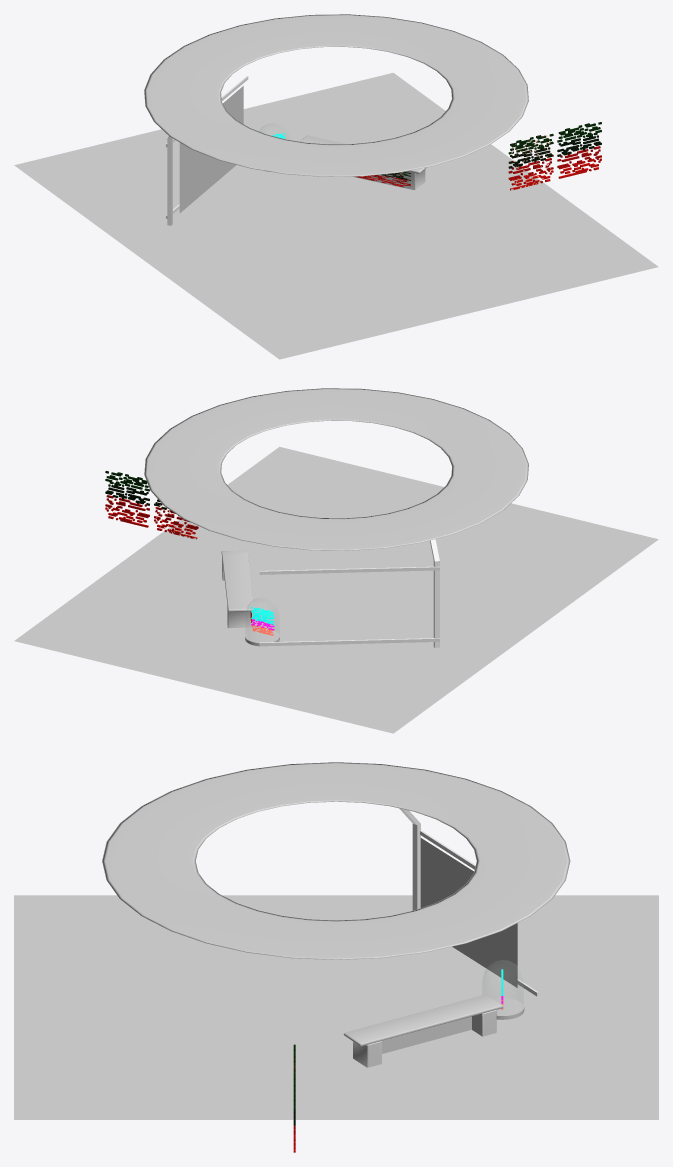
The model's file is newsstudio_20210517_2.glb.
3 renders of one model, top to bottom at view 1: azimuth 30°, elevation 25°; view 2: azimuth 150°, elevation 25°; view 3: azimuth 270°, elevation 25°, orthographic. The views are drawn at different scales.
Visible parts, largest first — view 1: 平面, トーラス, 平面.001, dev, dev.001, 立方体.001, 立方体; view 2: 平面, トーラス, 立方体.001, dev, 立方体.002, 立方体.003, dev.001, 立方体, 球, dev.003; view 3: 平面, トーラス, 立方体.001, 平面.001, 球, 立方体.
Boxes of the visible parts, bbox=[...] form: 平面: bbox=[14, 72, 658, 359]; トーラス: bbox=[144, 14, 528, 176]; 平面.001: bbox=[179, 86, 243, 213]; dev: bbox=[557, 122, 601, 178]; dev.001: bbox=[508, 133, 553, 190]; 立方体.001: bbox=[300, 135, 426, 190]; 立方体: bbox=[167, 136, 172, 225]; 平面: bbox=[14, 446, 658, 733]; トーラス: bbox=[144, 388, 528, 550]; 立方体.001: bbox=[221, 550, 254, 628]; dev: bbox=[105, 471, 149, 527]; 立方体.002: bbox=[259, 566, 439, 574]; 立方体.003: bbox=[259, 638, 439, 646]; dev.001: bbox=[154, 499, 198, 539]; 立方体: bbox=[430, 539, 439, 647]; 球: bbox=[245, 598, 279, 633]; dev.003: bbox=[251, 607, 274, 635]; 平面: bbox=[14, 895, 658, 1119]; トーラス: bbox=[102, 762, 570, 959]; 立方体.001: bbox=[343, 994, 503, 1067]; 平面.001: bbox=[420, 838, 517, 987]; 球: bbox=[482, 960, 523, 1004]; 立方体: bbox=[399, 808, 420, 910].
Bounding box in the file's own units: 28.84 × 7.7 × 30.3.
